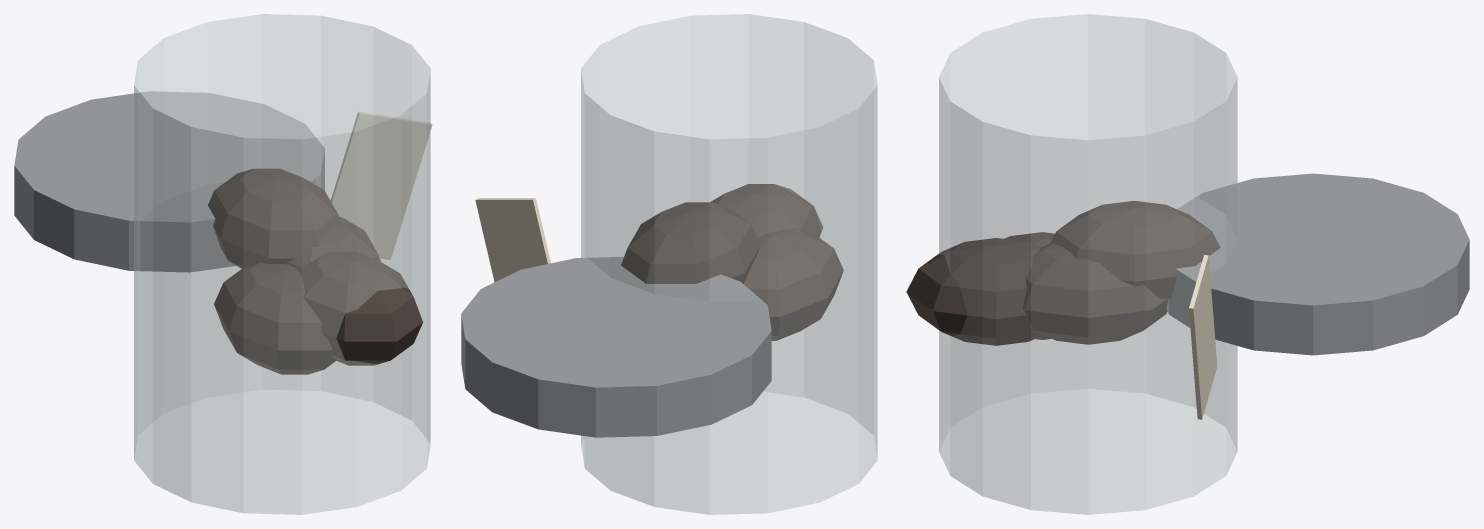
Rendered from prop_evidence_jar.glb.
The picture shows the model from 3 angles, left to right: view 1: azimuth 30°, elevation 25°; view 2: azimuth 150°, elevation 25°; view 3: azimuth 270°, elevation 25°; orthographic projection.
Visible parts, largest first — view 1: Prop_EvidenceJar; view 2: Prop_EvidenceJar; view 3: Prop_EvidenceJar.
Part boxes in pixels (x1,y1,x2,y2): Prop_EvidenceJar: [14, 14, 432, 514]; Prop_EvidenceJar: [461, 14, 877, 514]; Prop_EvidenceJar: [906, 14, 1469, 514].
Bounding box in the file's own units: 0.169 × 0.18 × 0.2452.
